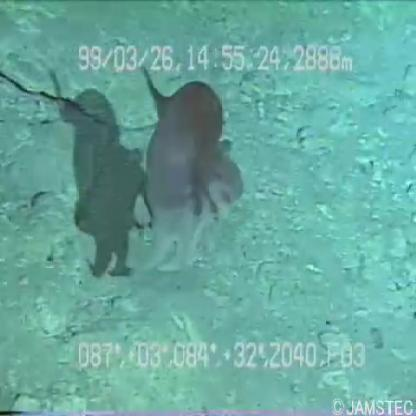Bio: (136, 63, 248, 284)
